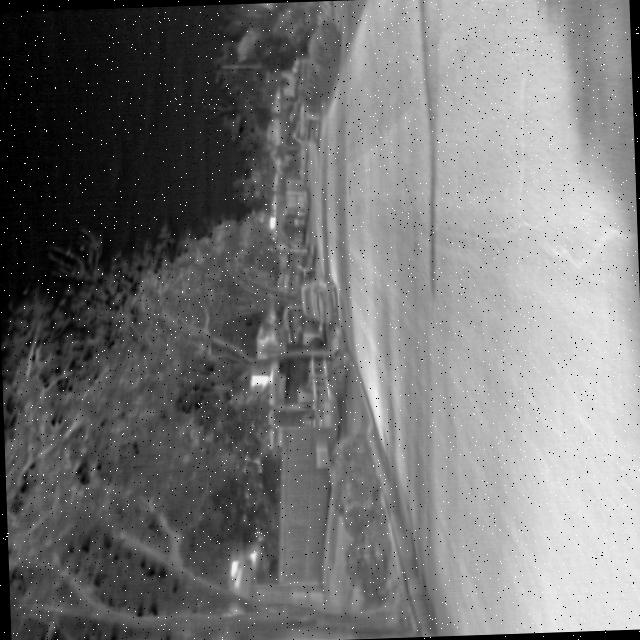Vehicle: (296, 278, 340, 326)
